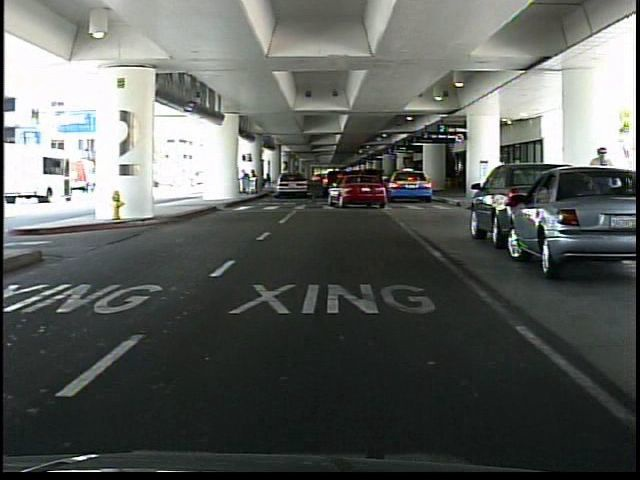person: (587, 143, 612, 231)
